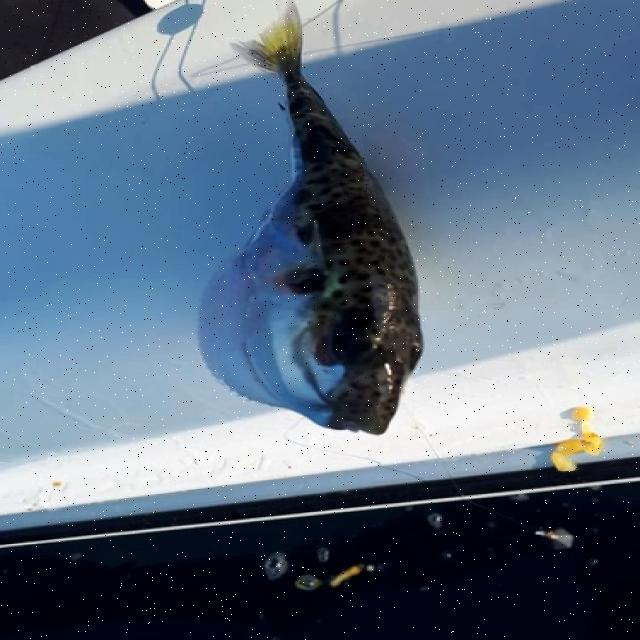Balik: (200, 6, 421, 433)
